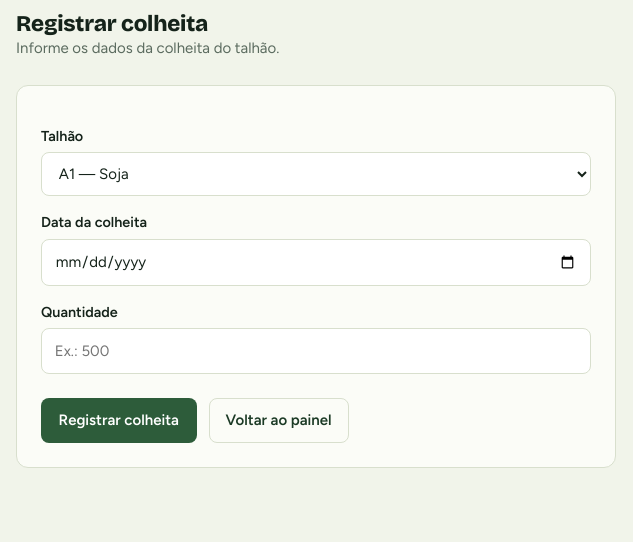
Test: RegistrarColheita - UI03 › preserva os campos após falha de conexão
Check: the dropdown labelled "Talhão" is shown, box [41,152,591,196]
Type "2026-11-26" into the date field labelled "Data da colheita" at (316, 262), box [41,239,591,286]
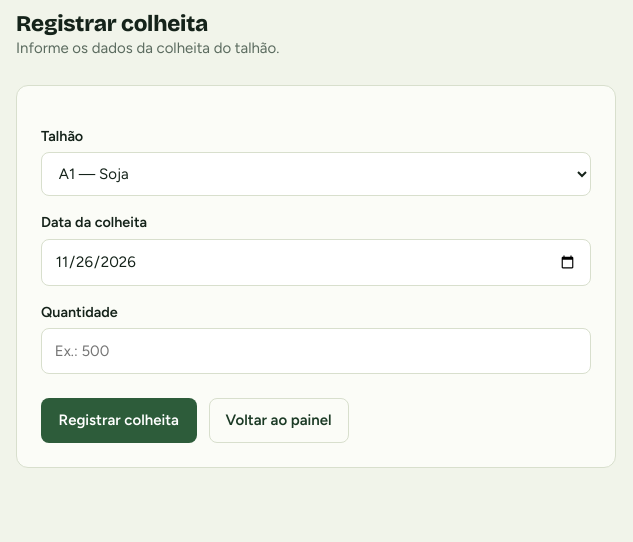
Type "500" into the number field labelled "Quantidade" at (316, 351), box [41,328,591,374]
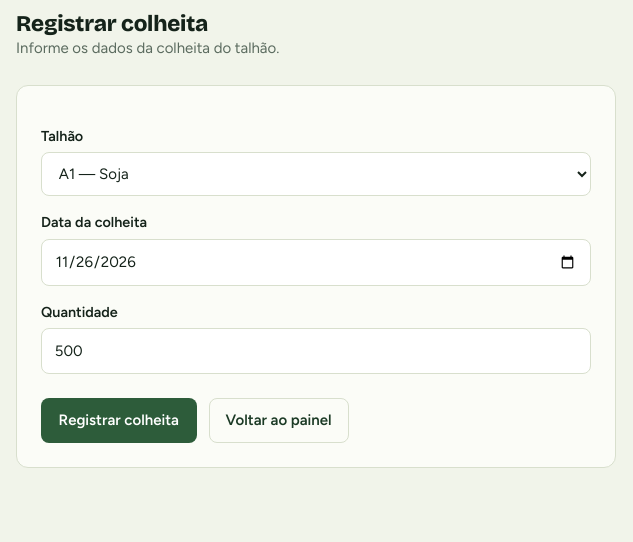
Click the button "Registrar colheita" at (119, 420), box [41,398,196,443]
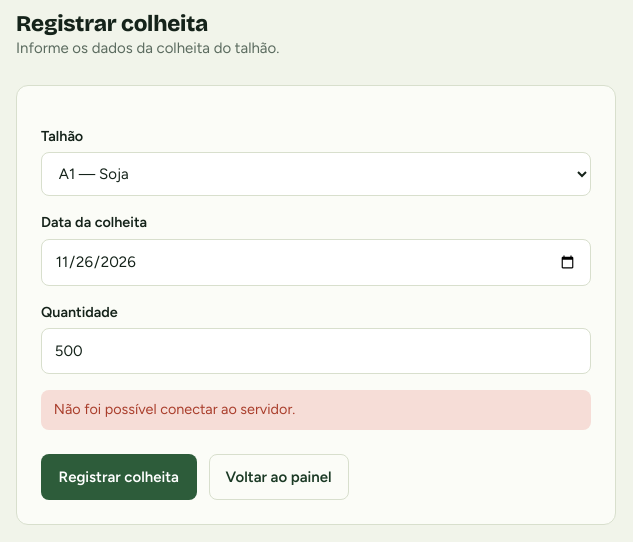
Check: the dropdown labelled "Talhão" shows "A1 — Soja", box [41,152,591,196]
Check: the message reads "Não foi possível conectar ao servidor.", box [54,400,295,418]
